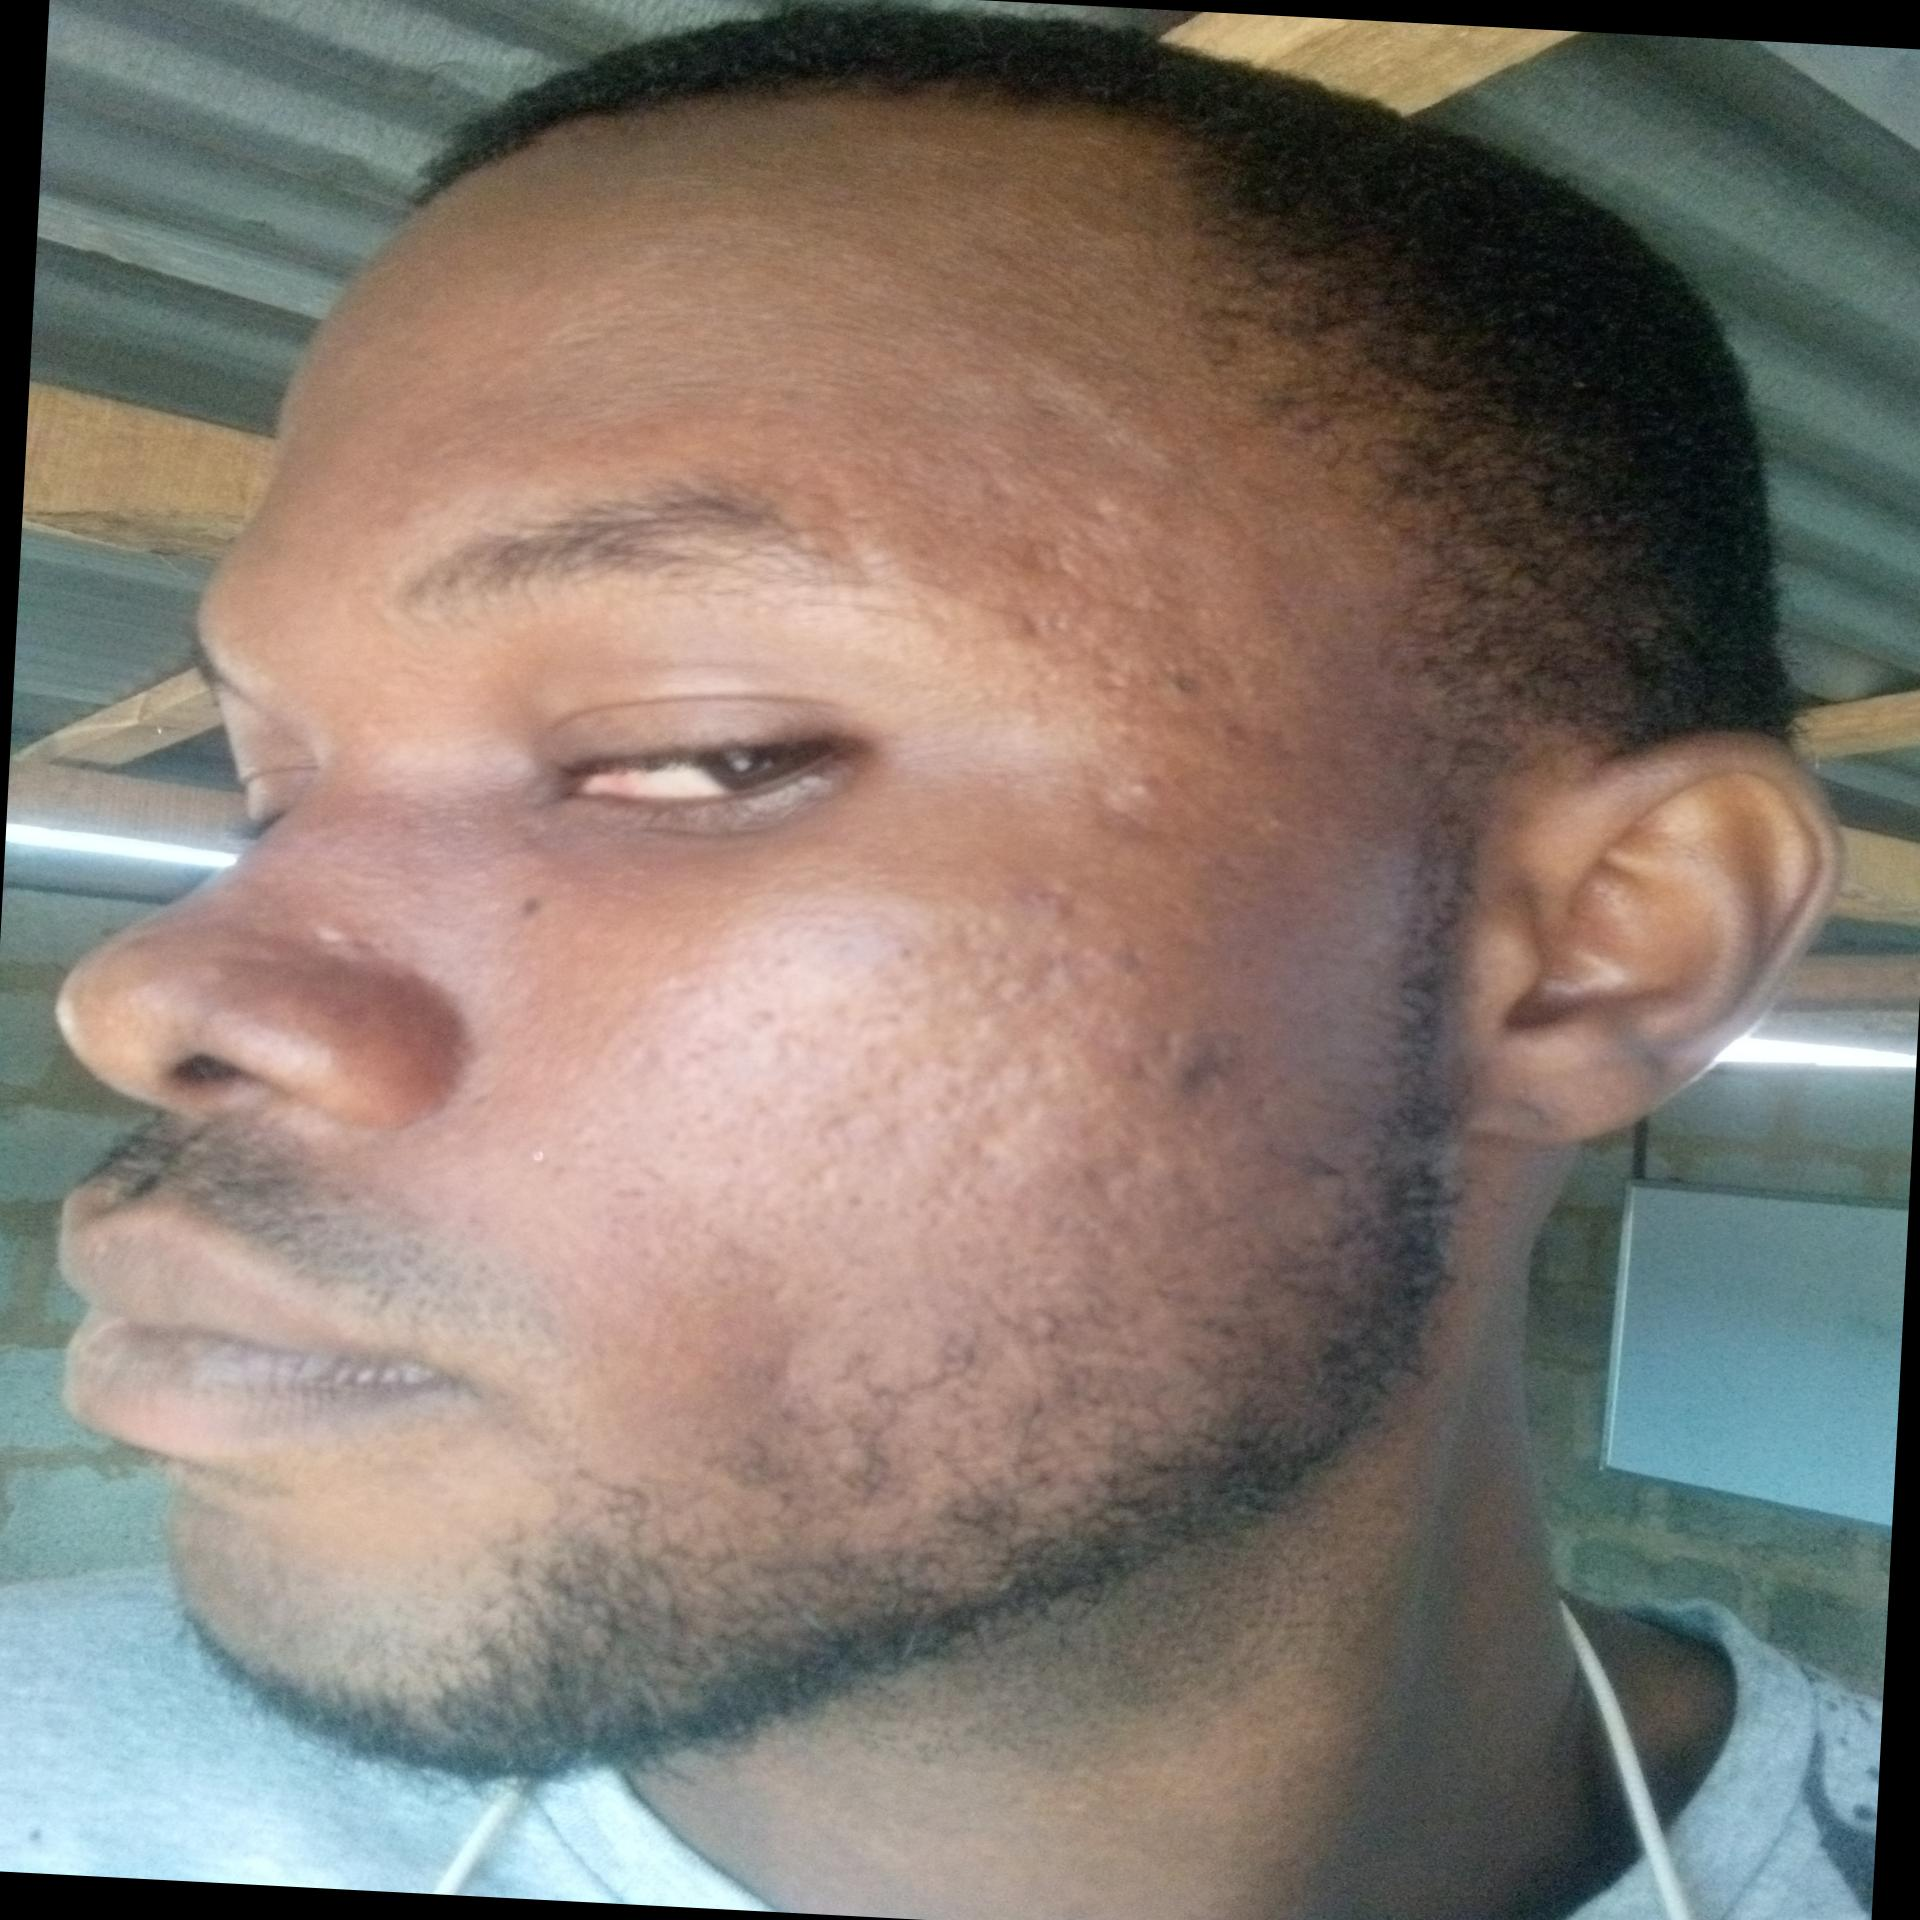Acne: (1146, 1016, 1255, 1109), (1146, 647, 1220, 714)
Englarged Pores: (721, 890, 1190, 1241), (1022, 489, 1199, 740), (993, 747, 1213, 909)
